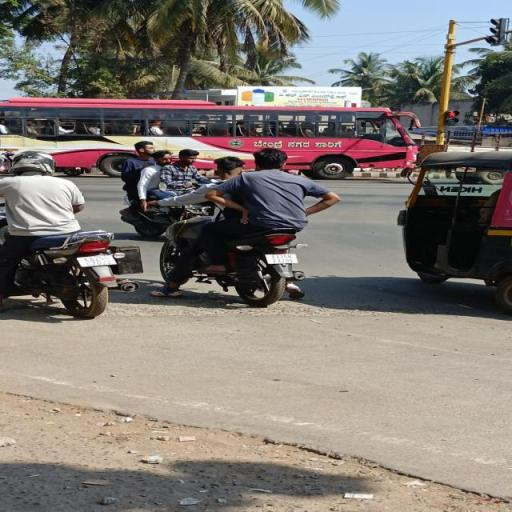bike: (147, 147, 341, 307)
numberplate: (266, 254, 298, 264)
withouthelmet: (214, 158, 244, 178), (254, 150, 287, 168)
